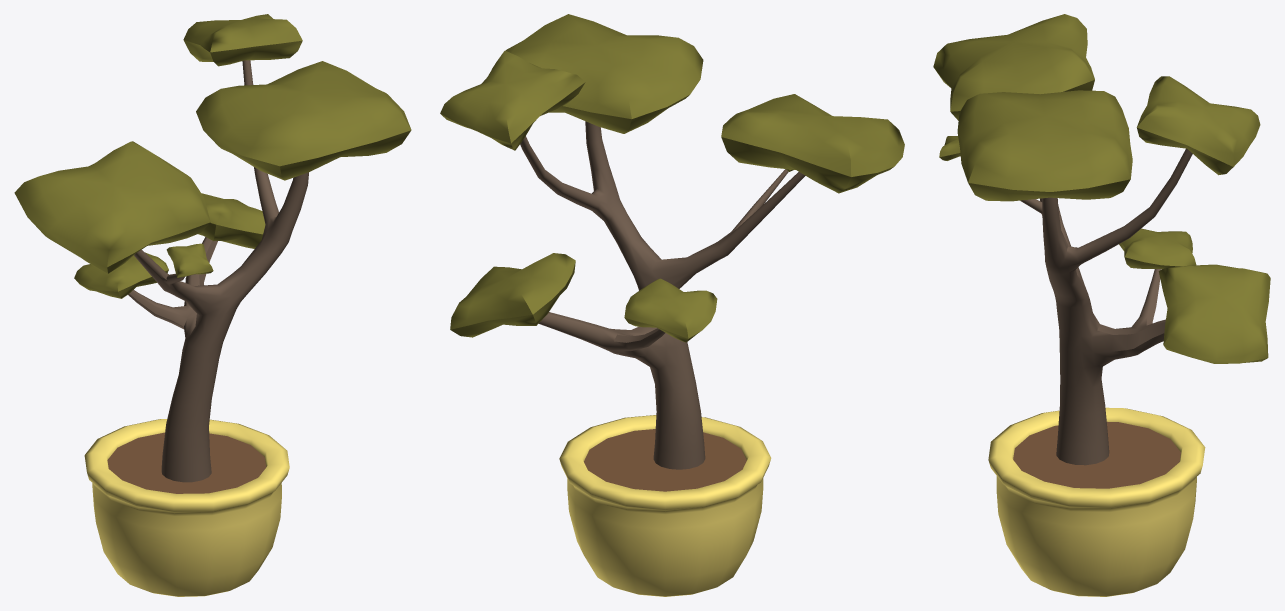
File: Bonsai.glb
3 views of the same model, side by side, from view 1: azimuth 30°, elevation 25°; view 2: azimuth 150°, elevation 25°; view 3: azimuth 270°, elevation 25° (orthographic). The views are drawn at different scales.
Visible parts, largest first — view 1: Bonsai; view 2: Bonsai; view 3: Bonsai.
Boxes of the visible parts, x1,y1,x2,y2 form: Bonsai: (14, 14, 411, 596); Bonsai: (440, 14, 904, 596); Bonsai: (933, 14, 1270, 596).
Bounding box in the file's own units: 0.6998 × 0.9088 × 0.5292.
1 material, 1 textured.
